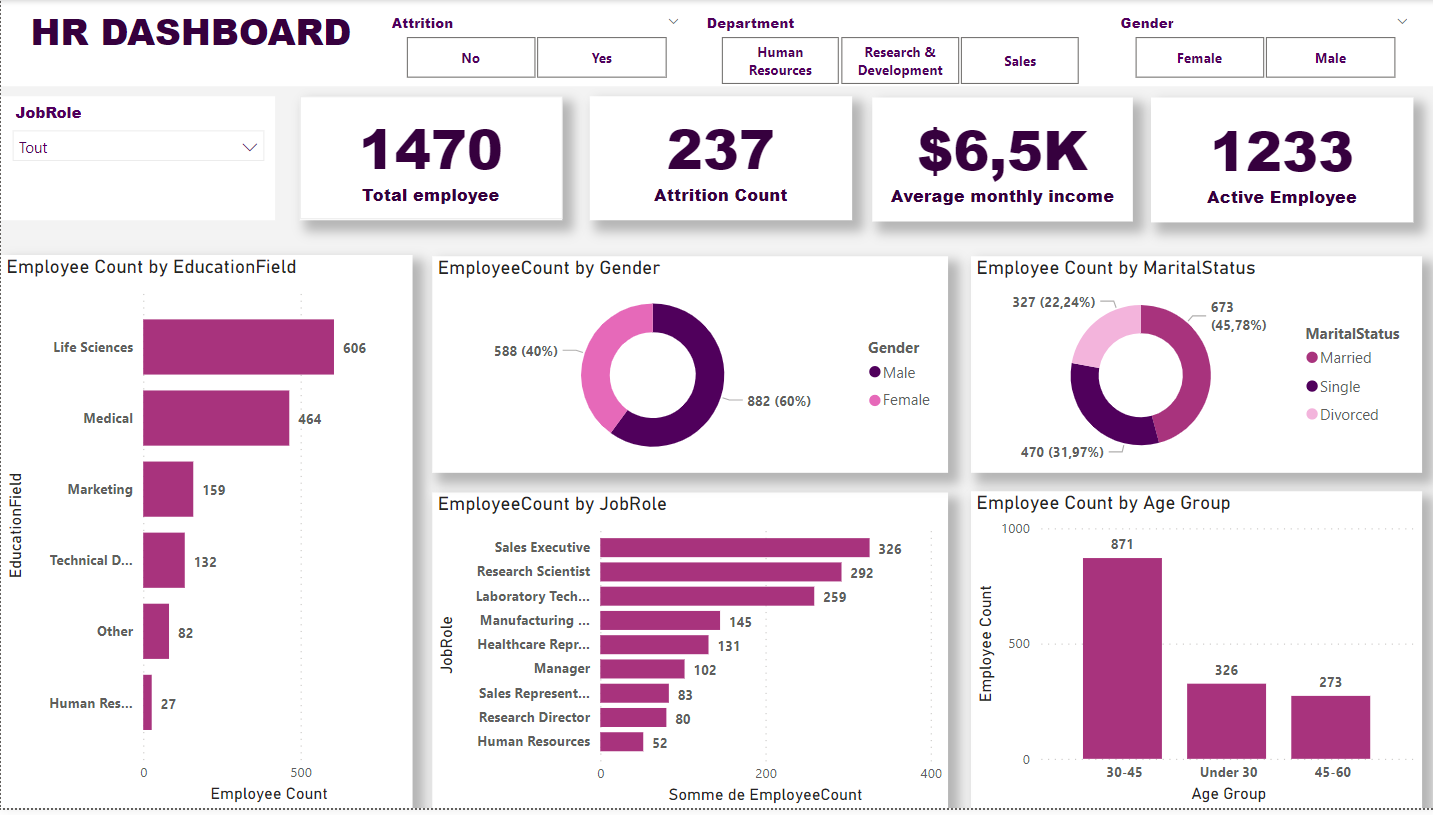

Layout of this report page (visuals, bound fields, positions):
{"tool":"powerbi","page":{"name":"Page 1","canvas":[1280,720],"ordinal":0},"visuals":[{"type":"textbox","box":[0,0,1279.3,76.7],"z":0},{"type":"slicer","fields":{"Values":["HR-Employee-Attrition.Department"]},"box":[615.8,7,368.3,69.7],"z":1000},{"type":"slicer","fields":{"Values":["HR-Employee-Attrition.Attrition"]},"box":[334.6,7,281.2,69.7],"z":2000},{"type":"slicer","fields":{"Values":["HR-Employee-Attrition.Gender"]},"box":[984.2,7,281.2,69.7],"z":3000},{"type":"barChart","title":"Employee Count by EducationField","fields":{"Category":["HR-Employee-Attrition.EducationField"],"Y":["Sum(HR-Employee-Attrition.EmployeeCount)"]},"box":[0,226.6,366,492.7],"z":4000},{"type":"donutChart","title":"Employee Count by MaritalStatus","fields":{"Category":["HR-Employee-Attrition.MaritalStatus"],"Y":["Sum(HR-Employee-Attrition.EmployeeCount)"]},"box":[863.5,227.9,401.6,193],"z":5000},{"type":"columnChart","title":" Employee Count by Age Group","fields":{"Category":["HR-Employee-Attrition.Age Group"],"Y":["Sum(HR-Employee-Attrition.EmployeeCount)"]},"box":[863.5,437.8,401.6,282.2],"z":6000},{"type":"card","fields":{"Values":["Sum(HR-Employee-Attrition.Attrition Count)"]},"box":[524,86,233.6,110.4],"z":7000},{"type":"barChart","title":"EmployeeCount by JobRole","fields":{"Category":["HR-Employee-Attrition.JobRole"],"Y":["Sum(HR-Employee-Attrition.EmployeeCount)"]},"box":[383.4,438.1,459,282.4],"z":8000},{"type":"card","fields":{"Values":["HR-Employee-Attrition.Average monthly income"]},"box":[776.2,87.1,232.4,110.4],"z":9000},{"type":"card","fields":{"Values":["HR-Employee-Attrition.Active Employee"]},"box":[1023.7,87.1,233.6,111.5],"z":10000},{"type":"card","fields":{"Values":["HR-Employee-Attrition.Total employee"]},"box":[266.1,86,233.6,110.4],"z":11000},{"type":"slicer","fields":{"Values":["HR-Employee-Attrition.JobRole"]},"box":[0,86,244,110.4],"z":12000},{"type":"donutChart","title":"EmployeeCount by Gender","fields":{"Category":["HR-Employee-Attrition.Gender"],"Y":["Sum(HR-Employee-Attrition.EmployeeCount)"]},"box":[383.4,227.7,459,192.9],"z":13000}]}

Visuals, with their boxes in screenshot pixels (x1, y1, x2, y2), scaled from the page's 1280x720 canvas onto the 1433x815 screenshot:
textbox: (x1=0, y1=0, x2=1432, y2=87)
slicer - HR-Employee-Attrition.Department: (x1=689, y1=8, x2=1102, y2=87)
slicer - HR-Employee-Attrition.Attrition: (x1=375, y1=8, x2=689, y2=87)
slicer - HR-Employee-Attrition.Gender: (x1=1102, y1=8, x2=1417, y2=87)
"Employee Count by EducationField" barChart: (x1=0, y1=256, x2=410, y2=814)
"Employee Count by MaritalStatus" donutChart: (x1=967, y1=258, x2=1416, y2=476)
" Employee Count by Age Group" columnChart: (x1=967, y1=496, x2=1416, y2=814)
card - Sum(HR-Employee-Attrition.Attrition Count): (x1=587, y1=97, x2=848, y2=222)
"EmployeeCount by JobRole" barChart: (x1=429, y1=496, x2=943, y2=814)
card - HR-Employee-Attrition.Average monthly income: (x1=869, y1=99, x2=1129, y2=224)
card - HR-Employee-Attrition.Active Employee: (x1=1146, y1=99, x2=1408, y2=225)
card - HR-Employee-Attrition.Total employee: (x1=298, y1=97, x2=559, y2=222)
slicer - HR-Employee-Attrition.JobRole: (x1=0, y1=97, x2=273, y2=222)
"EmployeeCount by Gender" donutChart: (x1=429, y1=258, x2=943, y2=476)
